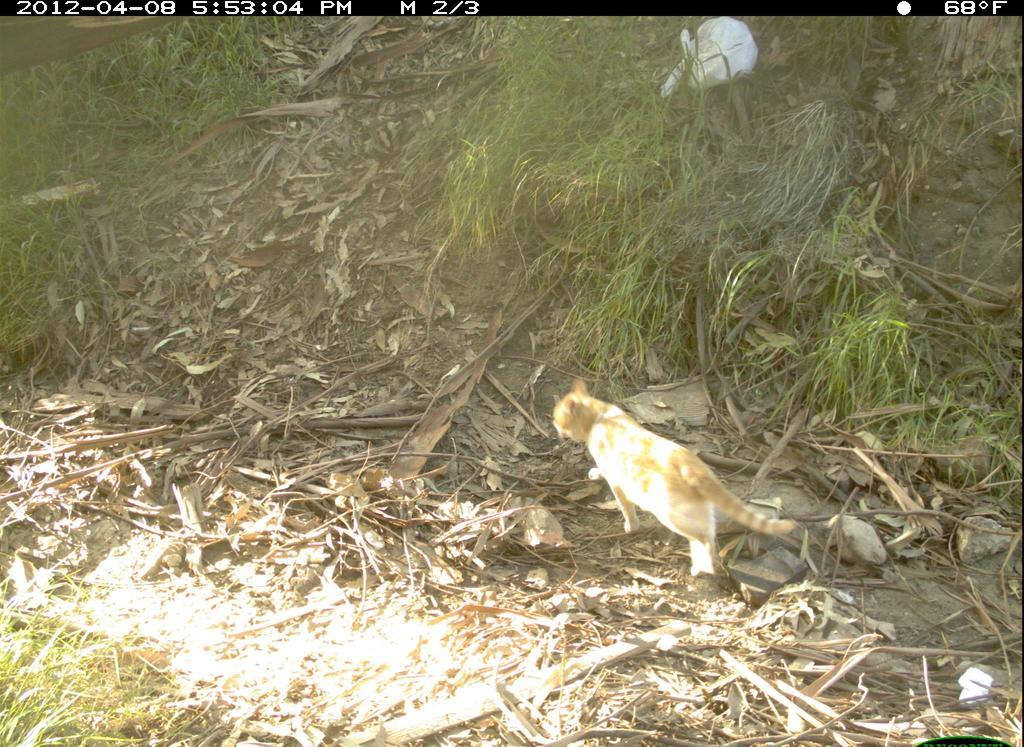cat: (548, 368, 802, 589)
